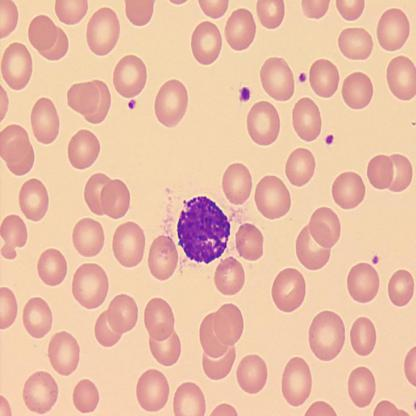Basophil: (175, 192, 234, 266)
